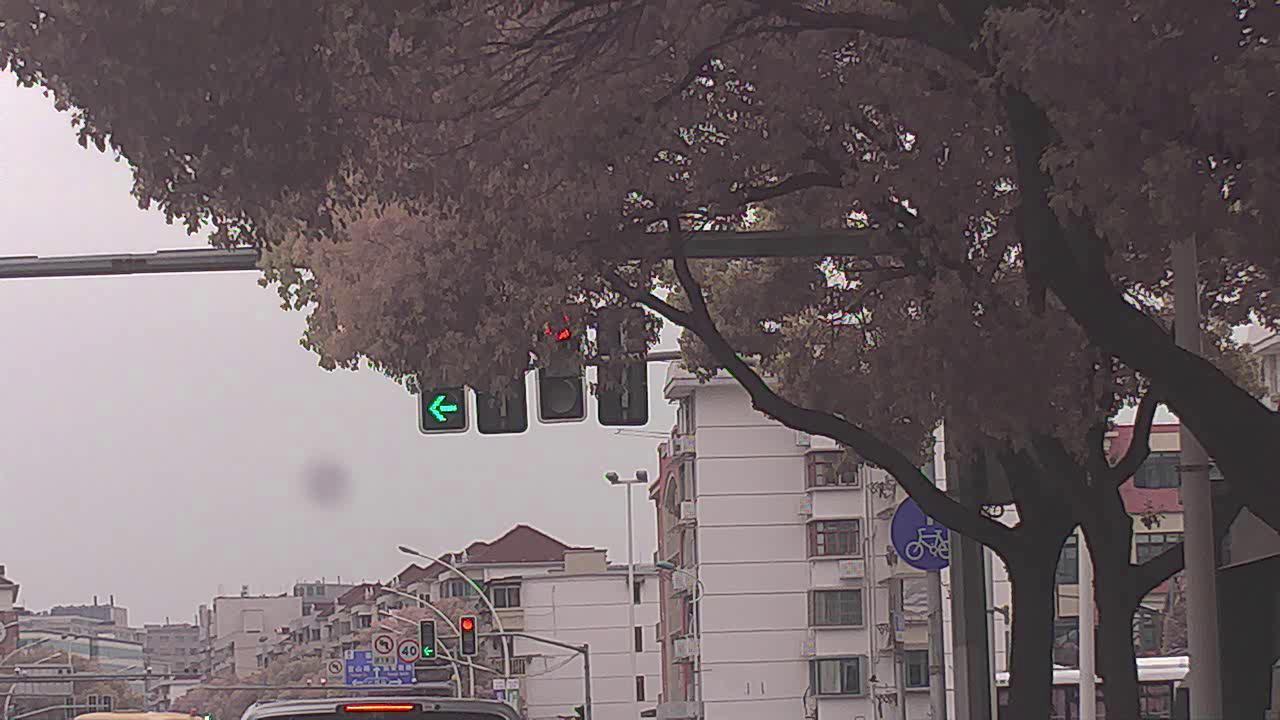traffic_light: (538, 310, 586, 423), (459, 615, 479, 656), (419, 619, 437, 660)
